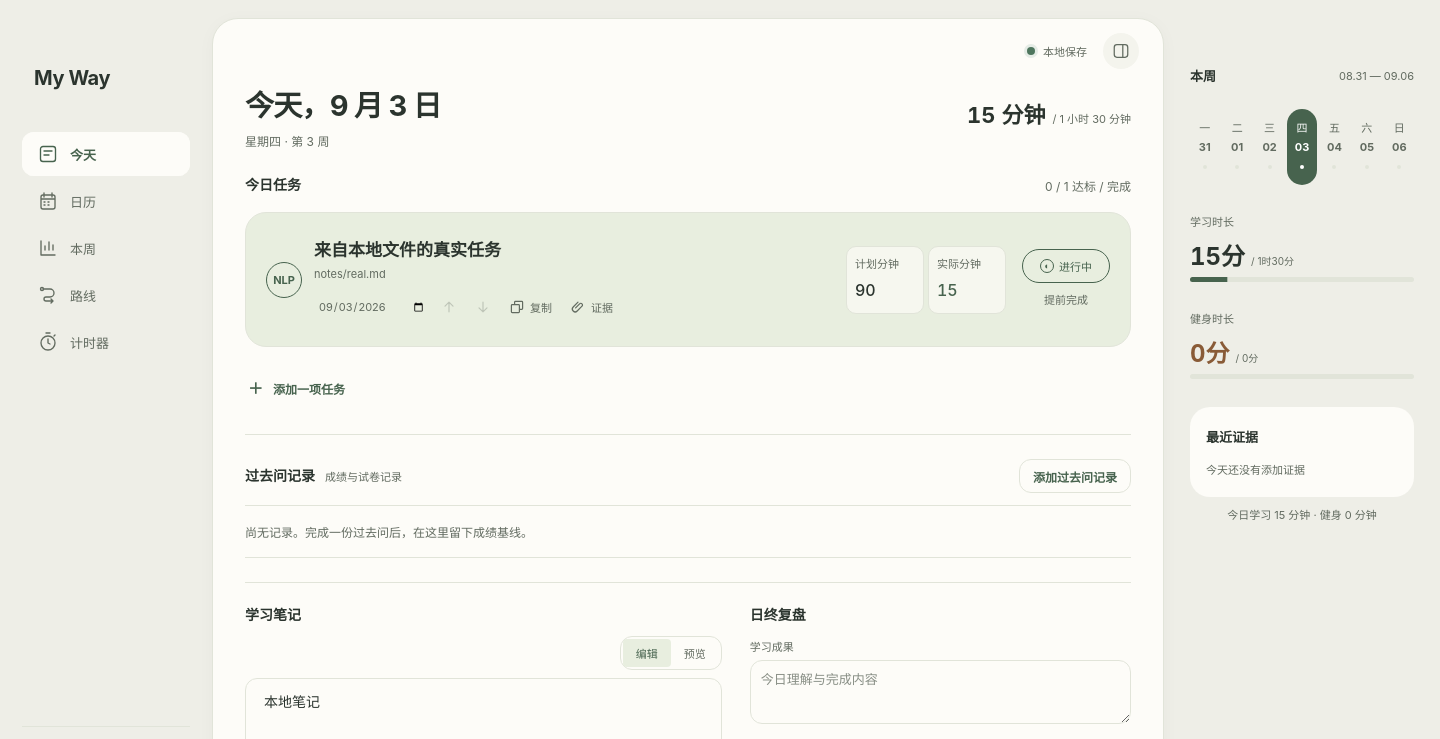
Test: App desktop data flow › opens an imported weekly calendar card independently from its drag handle
Click the button "日历": click(106, 201) [22, 179, 190, 223]
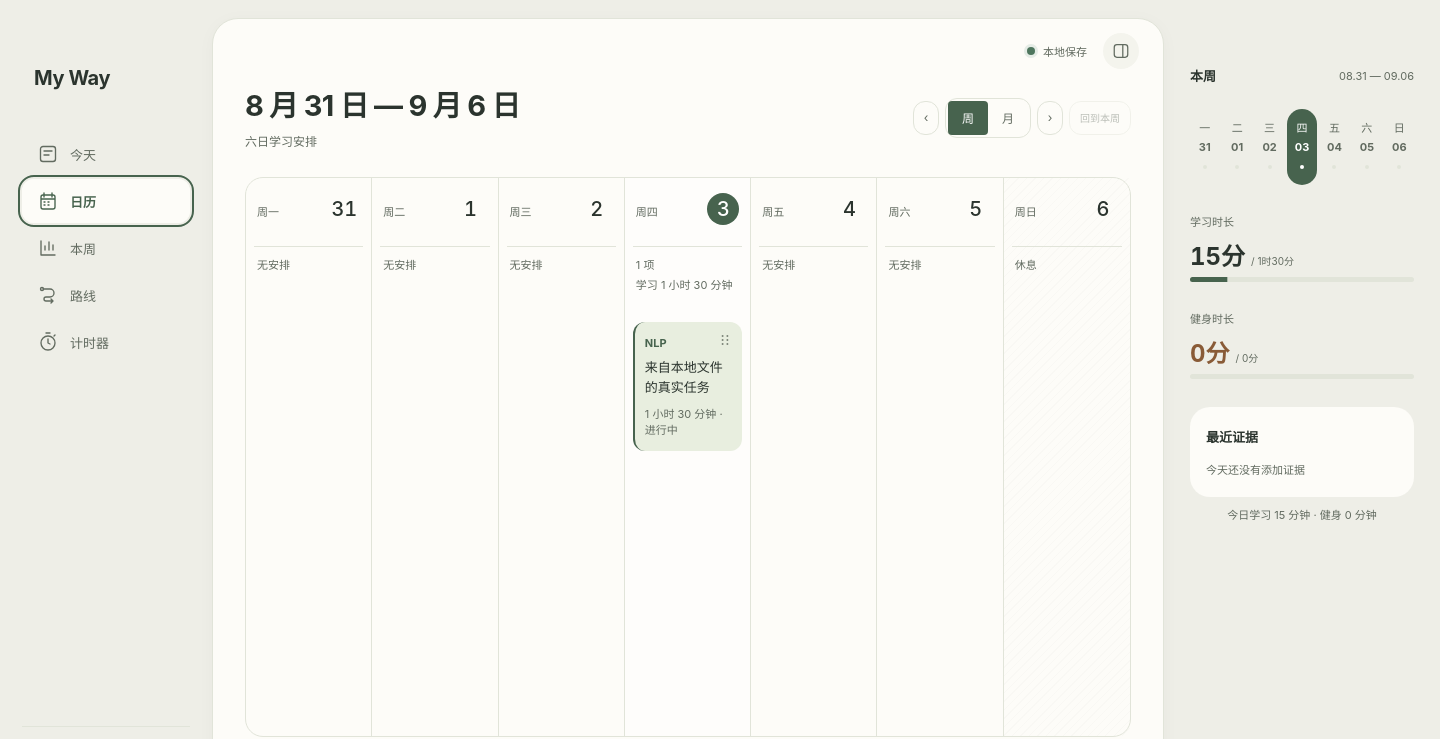
Click the button with aria-label "打开任务详情：来自本地文件的真实任务": click(688, 386) [635, 322, 742, 451]
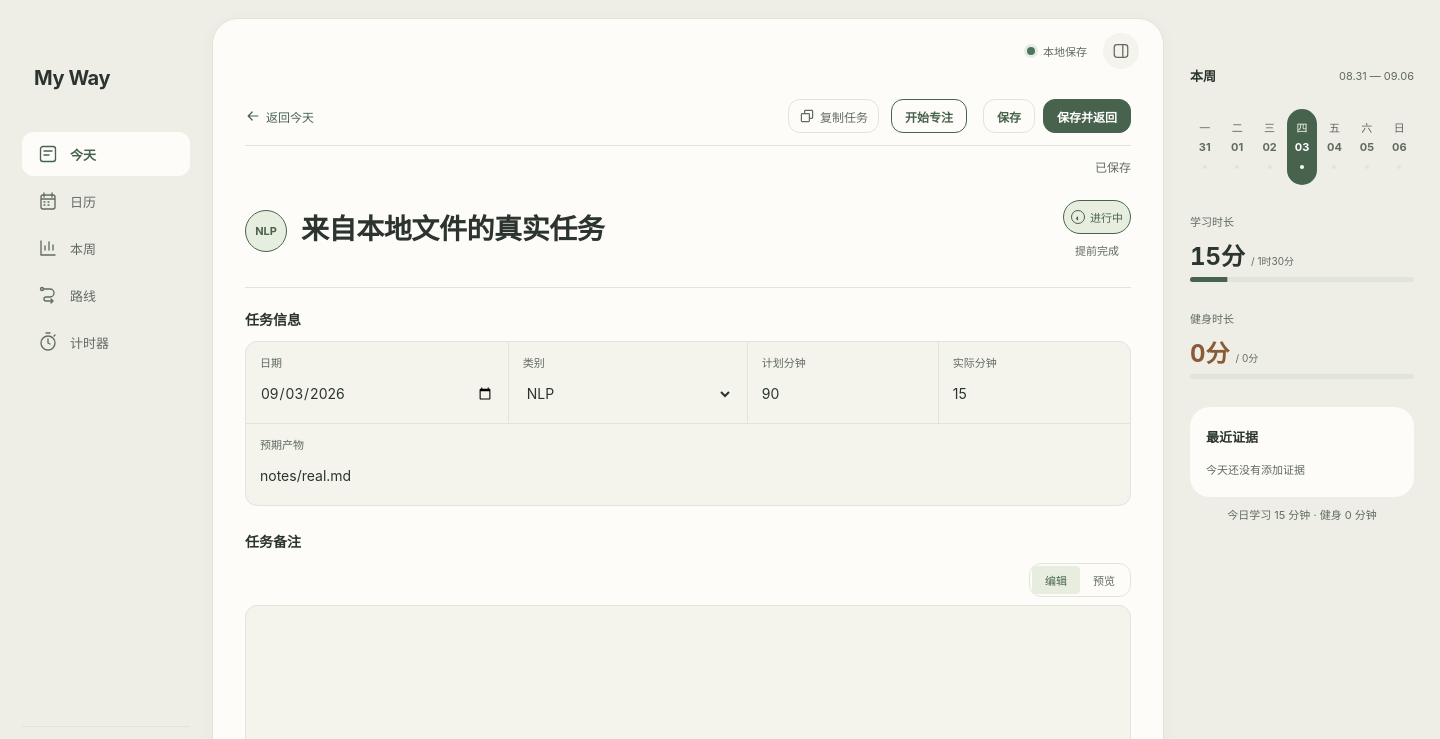
Expected: the text box named "任务标题" holds "来自本地文件的真实任务", [301, 207, 1049, 255]
